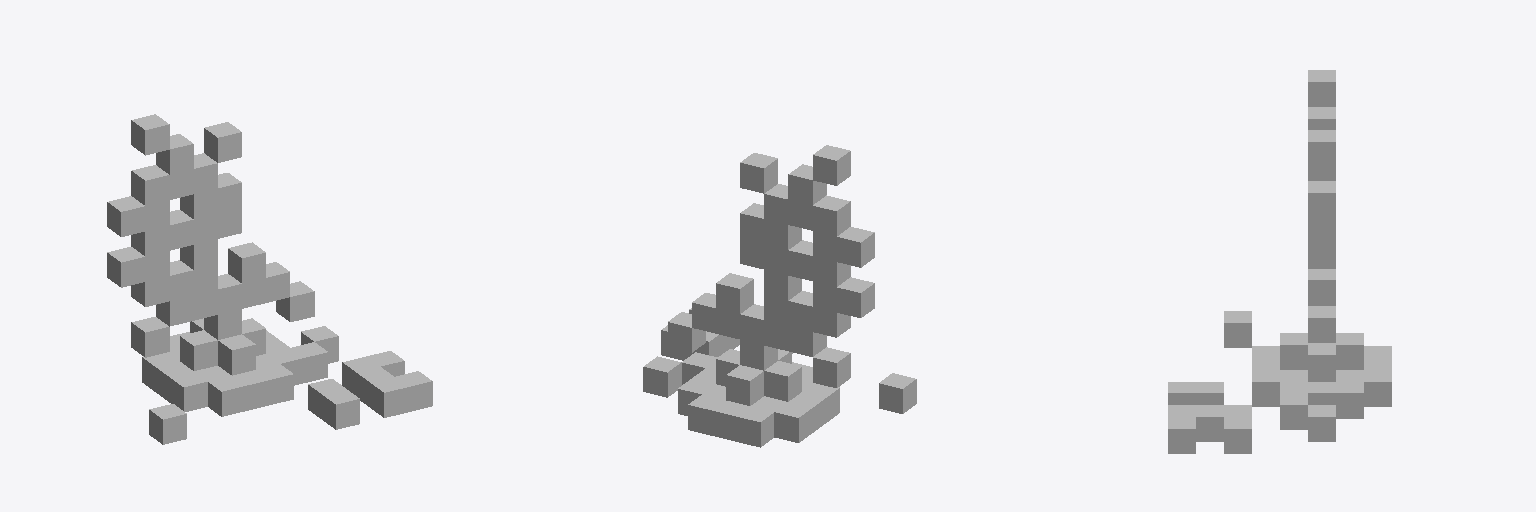
The model's file is obj-steering-wheel-broken.obj.
The picture shows the model from 3 angles: view 1: azimuth 30°, elevation 25°; view 2: azimuth 150°, elevation 25°; view 3: azimuth 270°, elevation 25°; orthographic projection.
Parts seen in each view (by area): view 1: steering-wheel-broken; view 2: steering-wheel-broken; view 3: steering-wheel-broken.
Part boxes in pixels (left/top/right/bottom): steering-wheel-broken: left=107, top=114, right=432, bottom=444; steering-wheel-broken: left=643, top=145, right=916, bottom=447; steering-wheel-broken: left=1168, top=70, right=1391, bottom=453.
Size of the model in its own units: 1 by 1.1 by 0.8.